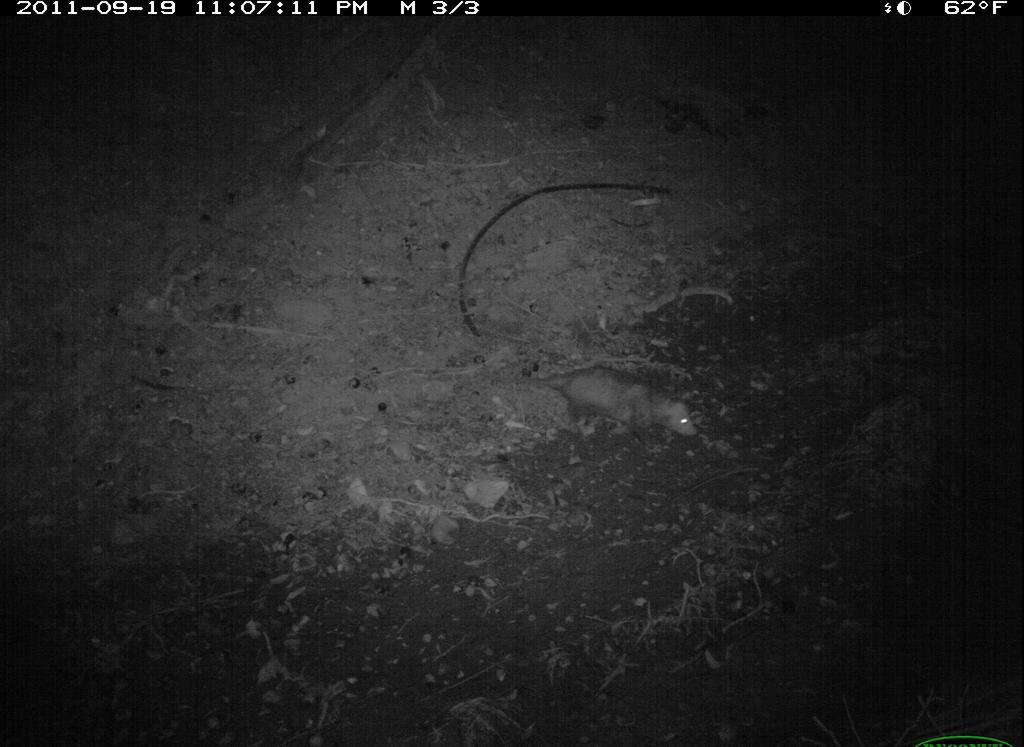opossum: (501, 345, 733, 459)
